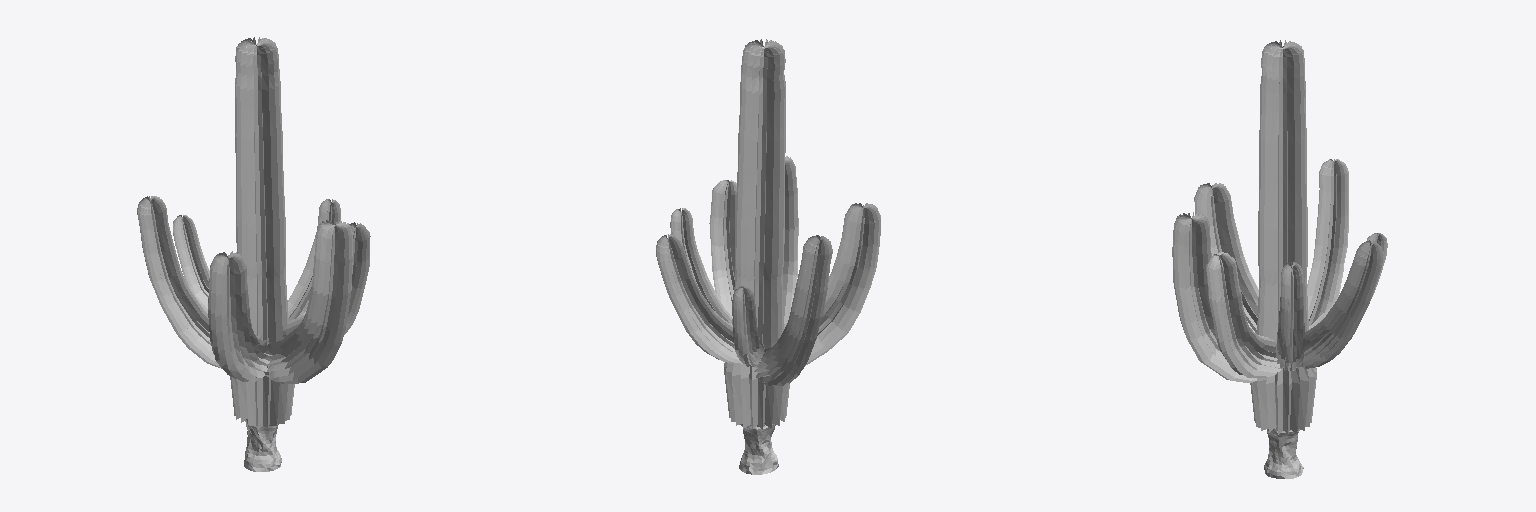
Rendered from cactus.obj.
3 views of the same model, side by side, from view 1: azimuth 30°, elevation 25°; view 2: azimuth 150°, elevation 25°; view 3: azimuth 270°, elevation 25° (orthographic).
Visible parts, largest first — view 1: 8_lowpoly_Cylinder.004; view 2: 8_lowpoly_Cylinder.004; view 3: 8_lowpoly_Cylinder.004.
Part boxes in pixels (x1,y1,x2,y2): 8_lowpoly_Cylinder.004: (137,37,370,471); 8_lowpoly_Cylinder.004: (656,39,880,474); 8_lowpoly_Cylinder.004: (1172,40,1387,478).
Bounding box in the file's own units: 1.43 × 3.22 × 1.49.